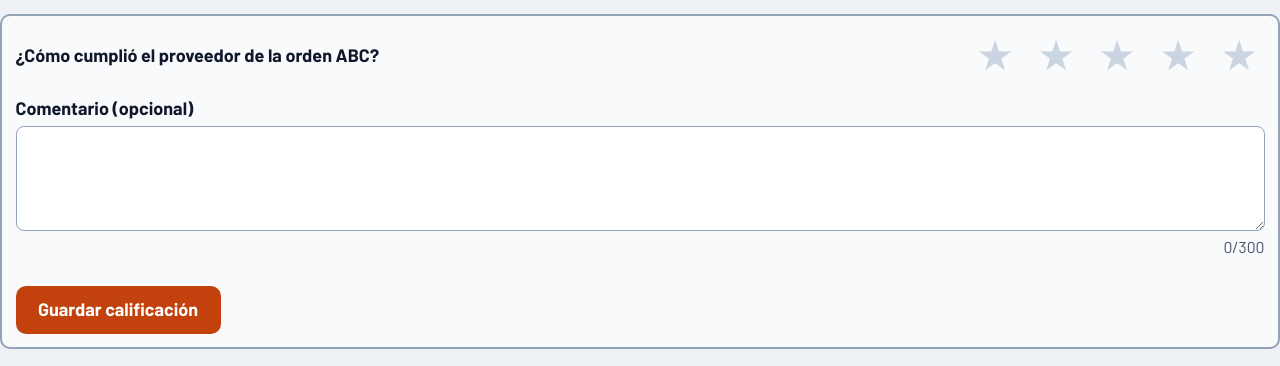
Test: CalificacionProveedor por orden (#222) › envía las estrellas y el comentario opcional al endpoint de la orden
The width and height of the screenshot is (1280, 366).
Click the button named "4 de 5" at (1178, 55), box [1152, 29, 1204, 81]
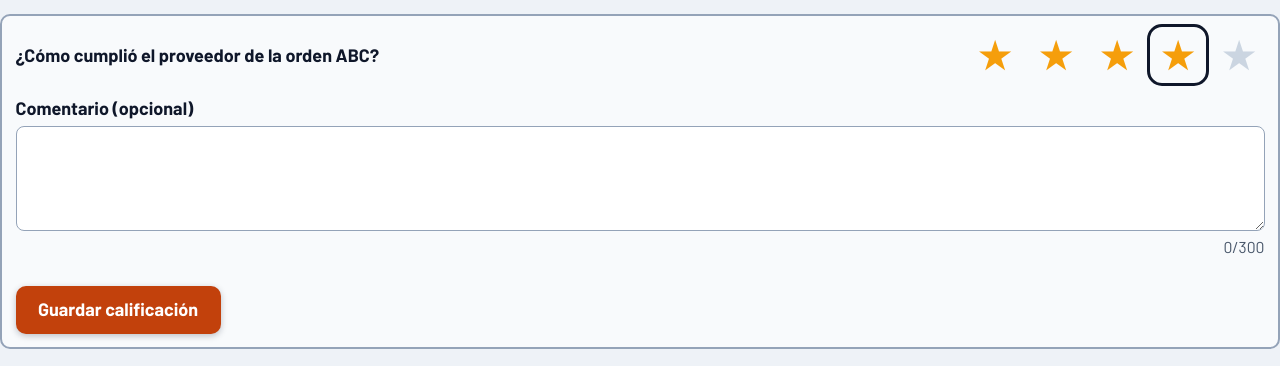
Type "Llegó completo" into the text box named "Comentario opcional, máximo 300 caracteres" at (640, 178), box [16, 126, 1264, 231]
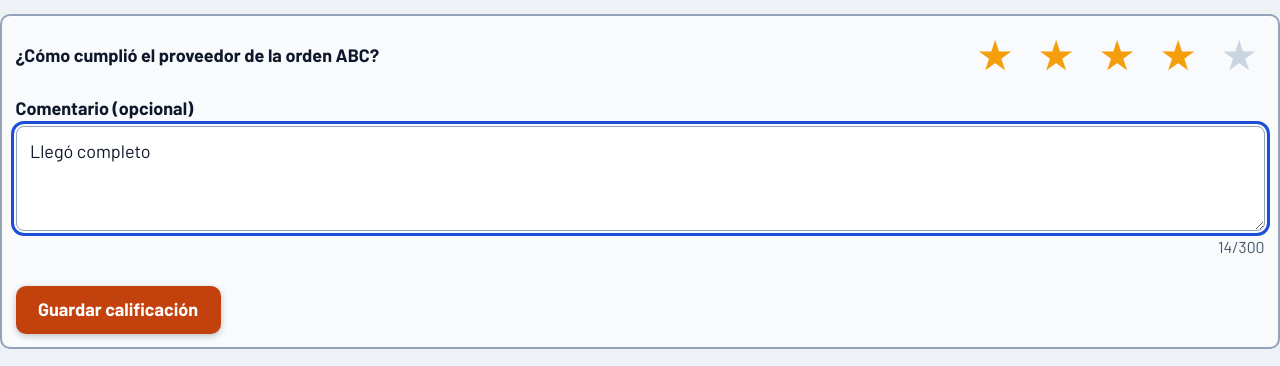
Click the button "Guardar calificación" at (118, 310), box [16, 286, 220, 334]
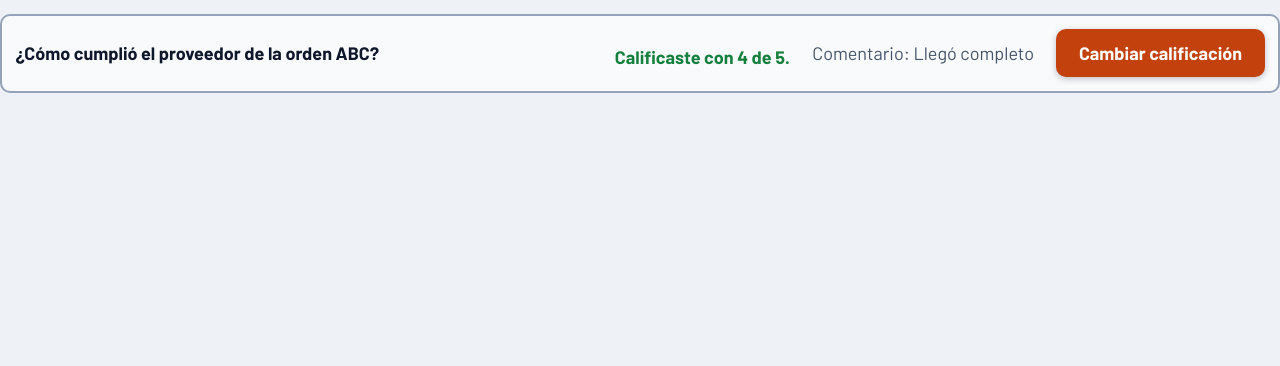
Now the text "Calificaste con 4 de 5." is shown, box [615, 44, 790, 71]
